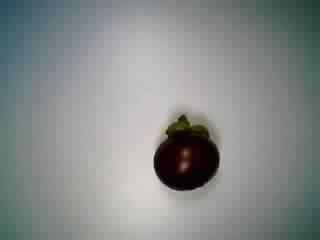mangosteen: (151, 112, 220, 193)
